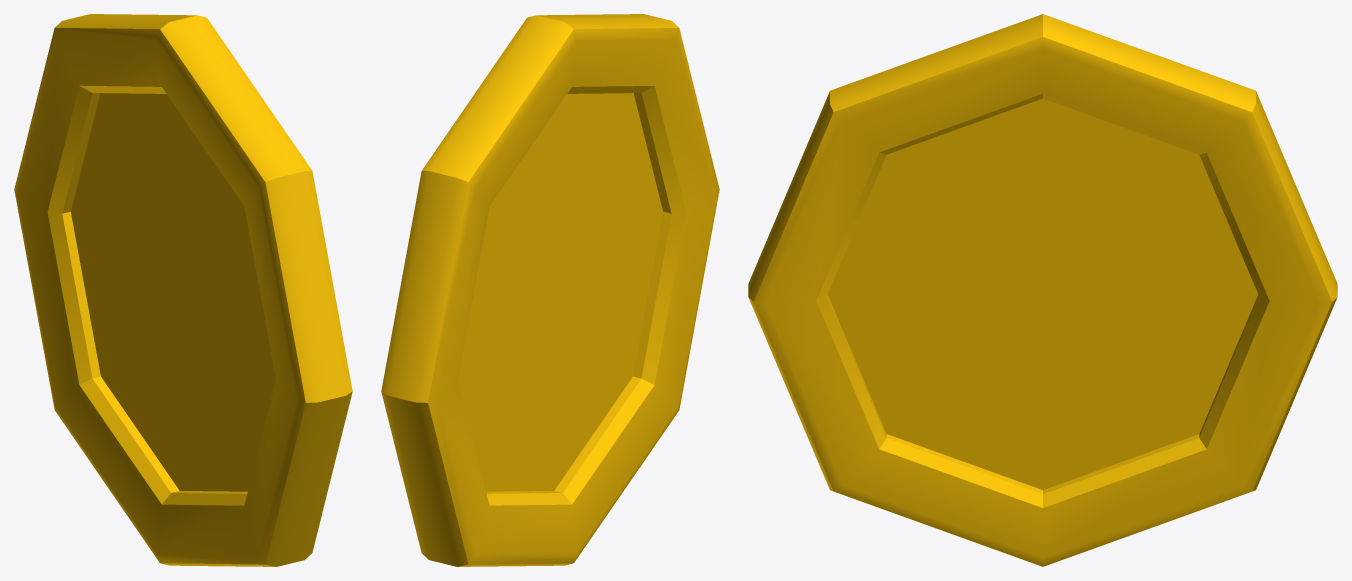
File: Gold Coin.fbx
The picture shows the model from 3 angles, left to right: view 1: azimuth 30°, elevation 25°; view 2: azimuth 150°, elevation 25°; view 3: azimuth 270°, elevation 25°; orthographic projection.
Visible parts, largest first — view 1: pCube3; view 2: pCube3; view 3: pCube3.
Boxes of the visible parts, x1,y1,x2,y2 form: pCube3: (14, 14, 352, 566); pCube3: (381, 14, 719, 566); pCube3: (748, 14, 1337, 566).
Size of the model in its own units: 136 by 1335 by 1322.
